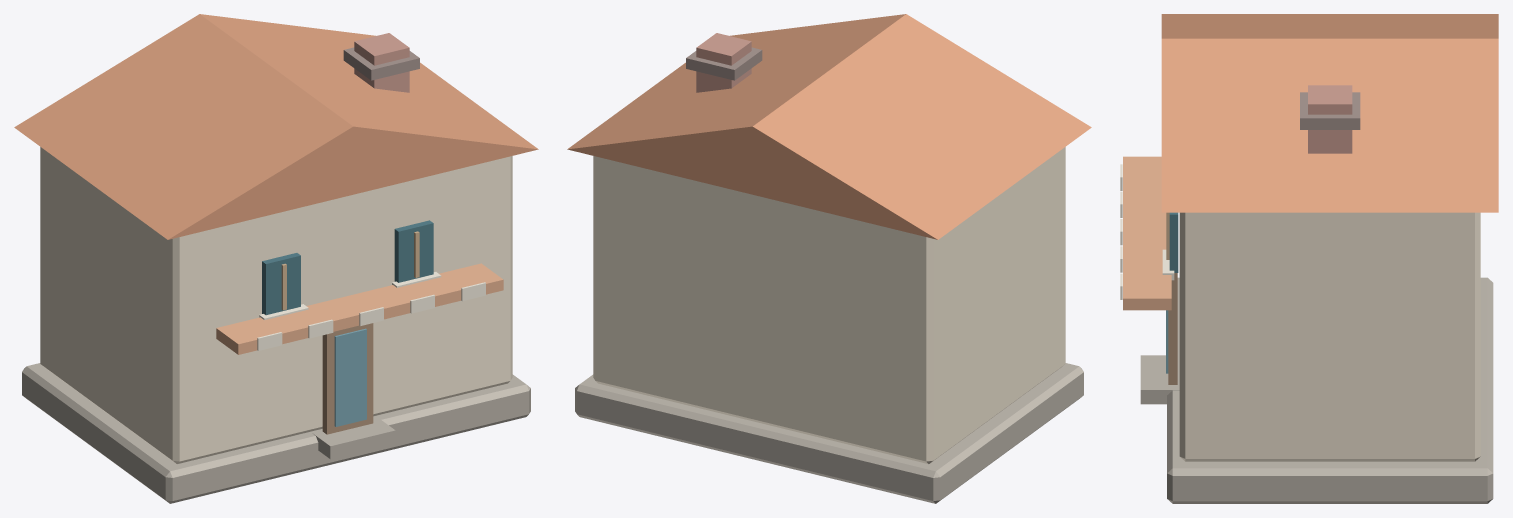
Rendered from tin_roof_bakery_near-ve2cdJC7.glb.
The picture shows the model from 3 angles, left to right: view 1: azimuth 30°, elevation 25°; view 2: azimuth 150°, elevation 25°; view 3: azimuth 270°, elevation 25°; orthographic projection. The views are drawn at different scales.
Parts seen in each view (by area): view 1: tin_roof_bakery_near; view 2: tin_roof_bakery_near; view 3: tin_roof_bakery_near.
Part boxes in pixels (x1,y1,x2,y2): tin_roof_bakery_near: [14, 14, 538, 503]; tin_roof_bakery_near: [567, 14, 1091, 503]; tin_roof_bakery_near: [1120, 14, 1498, 503].
Size of the model in its own units: 6.55 by 5.7 by 5.28.
